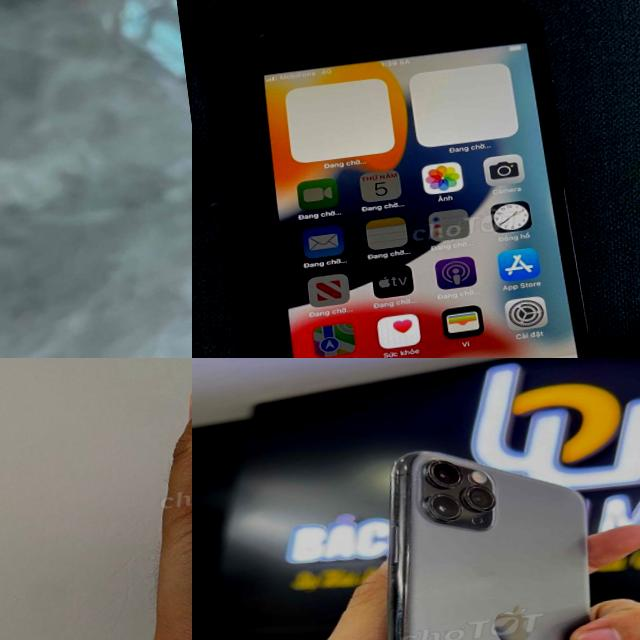scratch: (381, 586, 419, 640)
